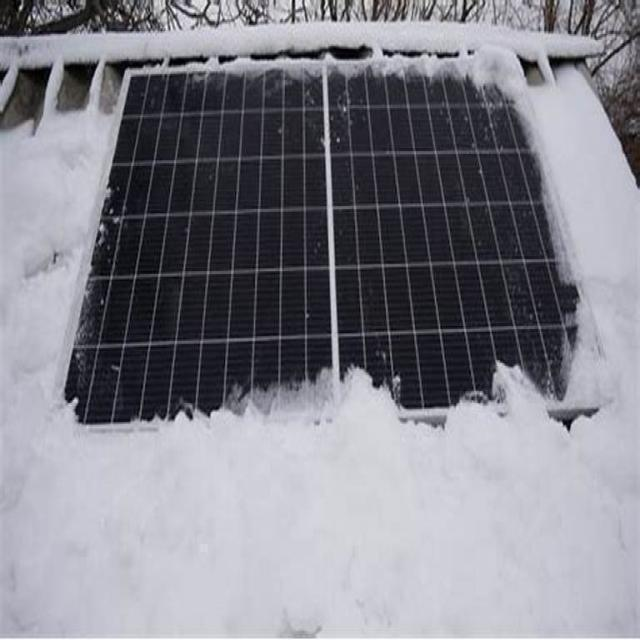Anomaly Solar Panel: (34, 41, 604, 432)
Snow: (184, 28, 527, 97), (129, 357, 402, 426), (446, 358, 550, 413), (42, 392, 90, 442)
